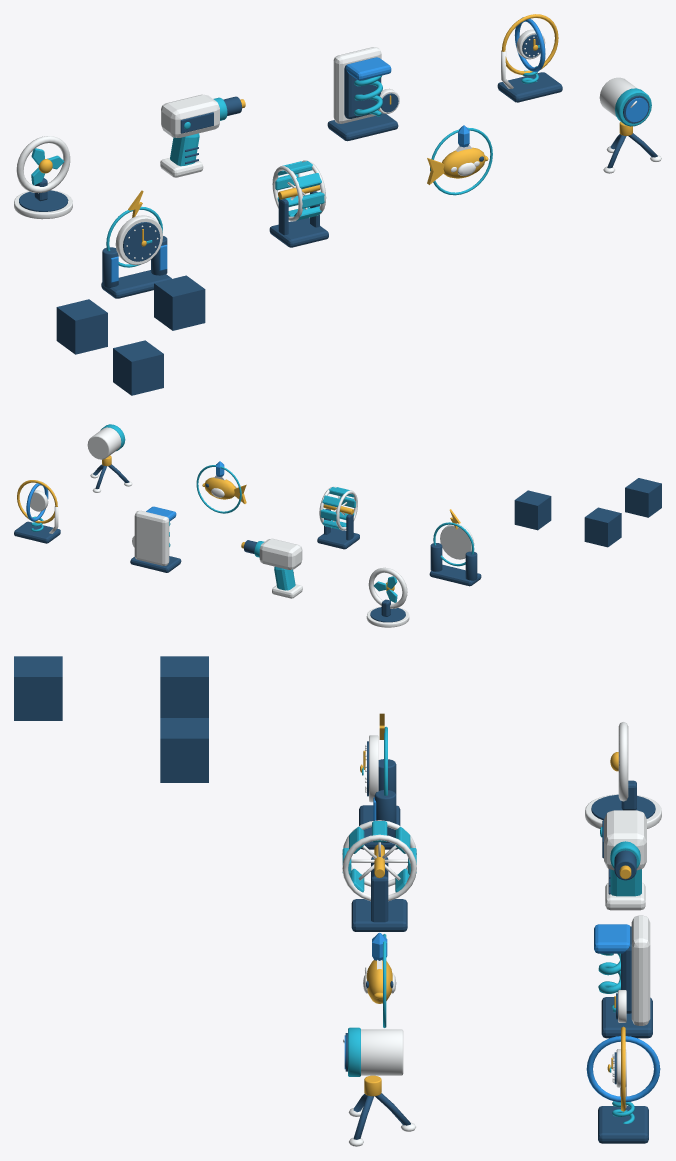
The model's file is catalog-009.glb.
3 views of the same model, one above another, from view 1: azimuth 30°, elevation 25°; view 2: azimuth 150°, elevation 25°; view 3: azimuth 270°, elevation 25° (orthographic). The views are drawn at different scales.
Visible parts, largest first — view 1: storm_clock__Fixed_dark_02, catalog_009__calibration_origin, catalog_009__calibration_right, tidal_engine__Fixed_dark_02, catalog_009__calibration_front, tap_driver__Fixed_pearl_04, tailwind__Fixed_pearl_03, stream_wheel__Fixed_dark_01, tidal_engine__Fixed_pearl_04, stream_wheel__StreamPaddle_teal_04, tide_gyroscope__Fixed_dark_02, tap_driver__Fixed_teal_05 (+11 smaller); view 2: tidal_engine__Fixed_pearl_04, tap_driver__Fixed_pearl_04, catalog_009__calibration_origin, catalog_009__calibration_right, storm_clock__Fixed_dark_02, catalog_009__calibration_front, tailwind__Fixed_pearl_03, storm_clock__Fixed_pearl_06, stream_wheel__Fixed_dark_01, stream_wheel__StreamPaddle_teal_04, survey_lens__Lens_pearl_06, tide_gyroscope__Fixed_dark_02 (+8 smaller); view 3: catalog_009__calibration_right, catalog_009__calibration_front, catalog_009__calibration_origin, tap_driver__Fixed_pearl_04, tidal_engine__Fixed_pearl_04, stream_wheel__Fixed_dark_01, stream_wheel__StreamSpoke_pearl_03, survey_lens__Lens_pearl_06, storm_clock__Fixed_dark_02, tidal_engine__Fixed_dark_02, tide_gyroscope__Fixed_dark_02, tailwind__Fixed_pearl_03 (+7 smaller).
Boxes of the visible parts, x1,y1,x2,y2 form: storm_clock__Fixed_dark_02: [101, 222, 171, 298]; catalog_009__calibration_origin: [56, 299, 107, 354]; catalog_009__calibration_right: [154, 275, 205, 330]; tidal_engine__Fixed_dark_02: [327, 65, 398, 141]; catalog_009__calibration_front: [113, 340, 163, 395]; tap_driver__Fixed_pearl_04: [160, 94, 219, 177]; tailwind__Fixed_pearl_03: [14, 136, 72, 219]; stream_wheel__Fixed_dark_01: [269, 191, 328, 247]; tidal_engine__Fixed_pearl_04: [333, 47, 399, 123]; stream_wheel__StreamPaddle_teal_04: [275, 161, 324, 220]; tide_gyroscope__Fixed_dark_02: [497, 34, 562, 102]; tap_driver__Fixed_teal_05: [170, 97, 227, 166]; tidal_engine__Fixed_pearl_04: [132, 510, 169, 565]; tap_driver__Fixed_pearl_04: [259, 538, 302, 598]; catalog_009__calibration_origin: [584, 507, 621, 547]; catalog_009__calibration_right: [514, 490, 551, 530]; storm_clock__Fixed_dark_02: [429, 543, 481, 586]; catalog_009__calibration_front: [625, 478, 661, 517]; tailwind__Fixed_pearl_03: [366, 567, 409, 627]; storm_clock__Fixed_pearl_06: [440, 524, 474, 559]; stream_wheel__Fixed_dark_01: [317, 508, 359, 549]; stream_wheel__StreamPaddle_teal_04: [320, 487, 355, 529]; survey_lens__Lens_pearl_06: [87, 427, 121, 459]; tide_gyroscope__Fixed_dark_02: [14, 521, 60, 543]; catalog_009__calibration_right: [160, 718, 208, 782]; catalog_009__calibration_front: [14, 656, 62, 720]; catalog_009__calibration_origin: [160, 656, 208, 717]; tap_driver__Fixed_pearl_04: [604, 810, 646, 910]; tidal_engine__Fixed_pearl_04: [618, 915, 650, 1025]; stream_wheel__Fixed_dark_01: [351, 857, 407, 931]; stream_wheel__StreamSpoke_pearl_03: [342, 820, 416, 901]; survey_lens__Lens_pearl_06: [343, 1029, 403, 1075]; storm_clock__Fixed_dark_02: [359, 741, 400, 849]; tidal_engine__Fixed_dark_02: [601, 926, 652, 1038]; tide_gyroscope__Fixed_dark_02: [598, 1052, 648, 1143]; tailwind__Fixed_pearl_03: [585, 722, 661, 828].
Bounding box in the file's own units: 5.71 × 0.7812 × 3.72.
